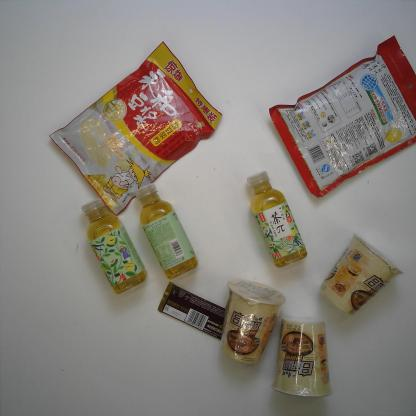Chocolate: (156, 280, 246, 346)
Drink: (129, 180, 203, 284), (77, 194, 148, 298), (244, 168, 308, 271)
Instant Drink: (45, 36, 226, 220), (268, 31, 416, 199)
Instant Noodles: (318, 232, 404, 318), (215, 273, 288, 369), (268, 316, 335, 400)
